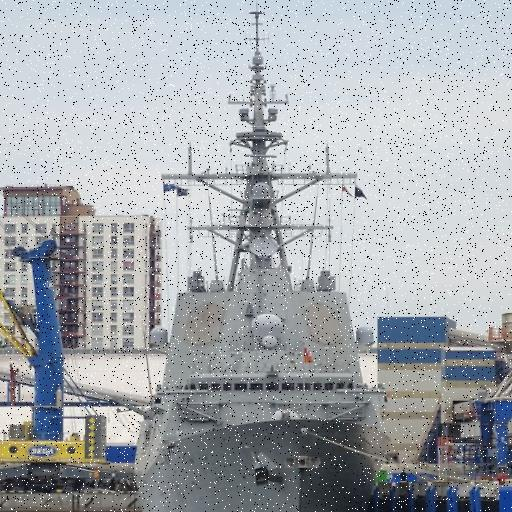Fragata: (130, 1, 394, 512)
